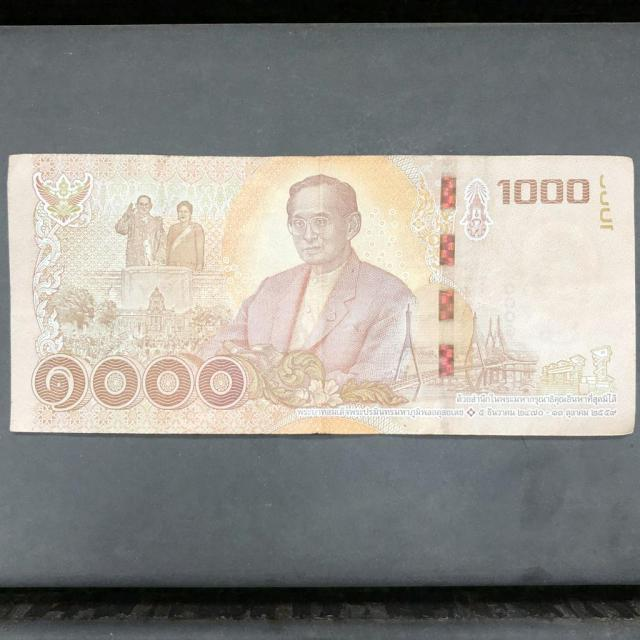THAI1000: (6, 154, 639, 442)
